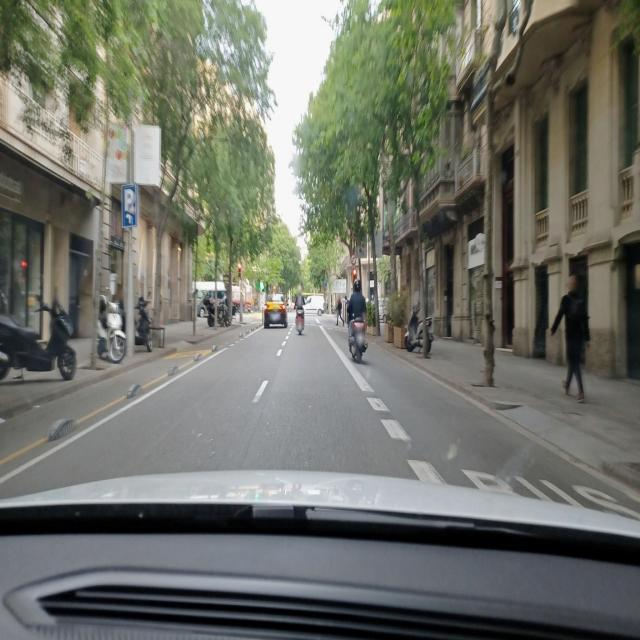bike: (0, 289, 77, 383), (96, 295, 127, 364), (404, 300, 434, 358), (347, 310, 368, 362), (296, 311, 306, 335)
car: (263, 296, 287, 329)
